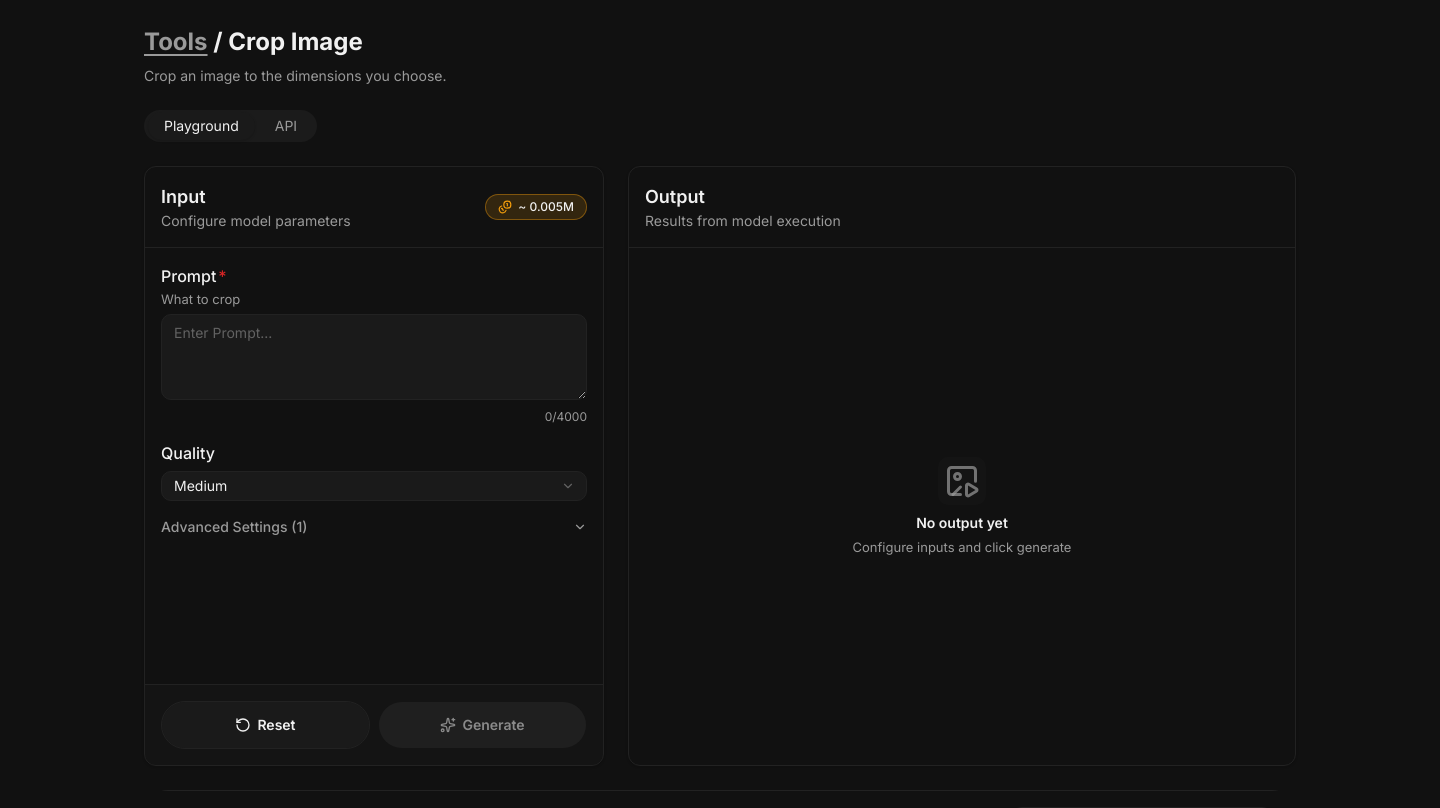
Test: ToolDetail generate › New Run clears the output and the selected run
Expected: the text "Prompt" is shown, top-left (161, 266), bottom-right (216, 286)
Type "a red apple" into the text box with placeholder "Enter Prompt...".
click(374, 357); type("a red apple")  # box top-left (161, 314), bottom-right (587, 400)
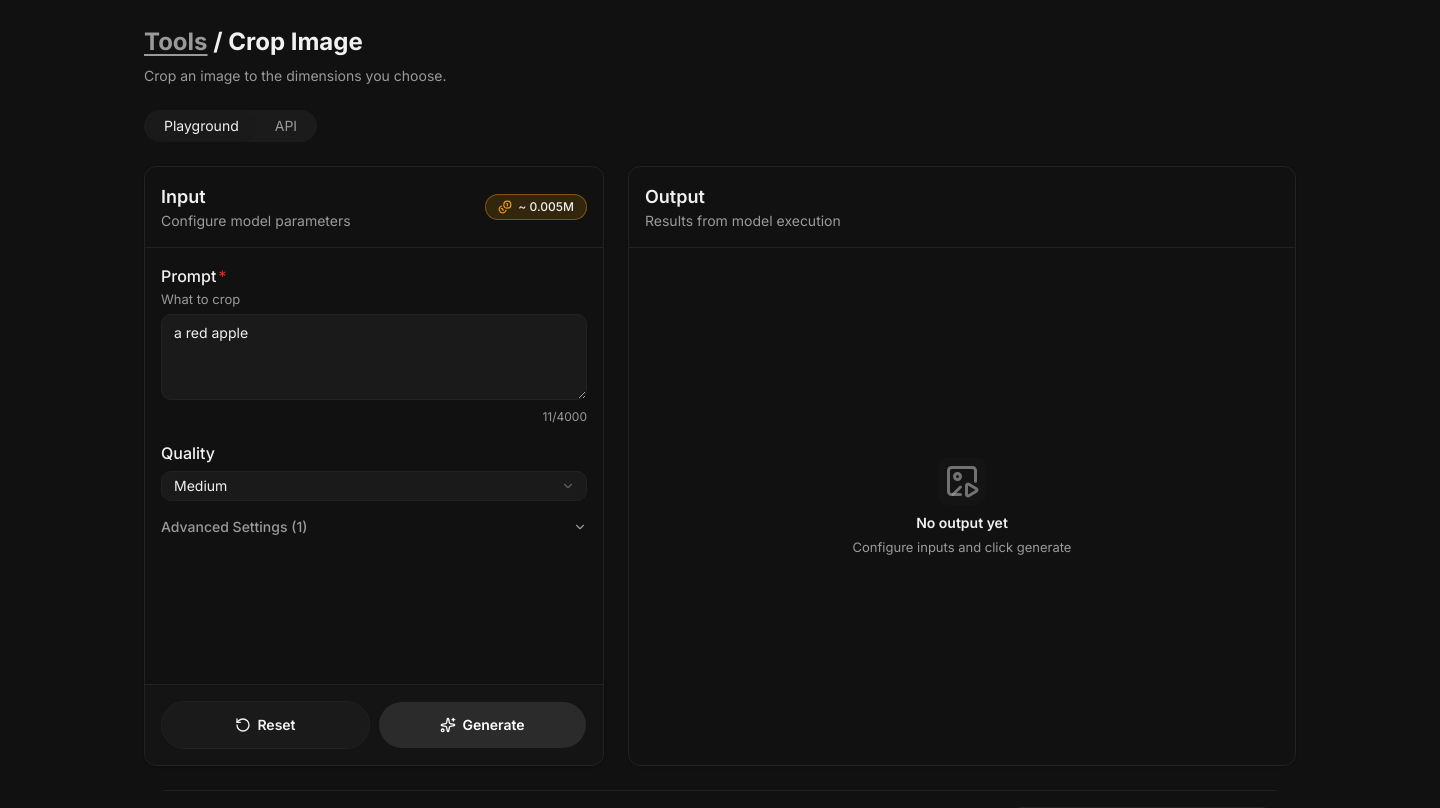
Click the button "Generate".
click(482, 725)  # box top-left (378, 701), bottom-right (587, 749)
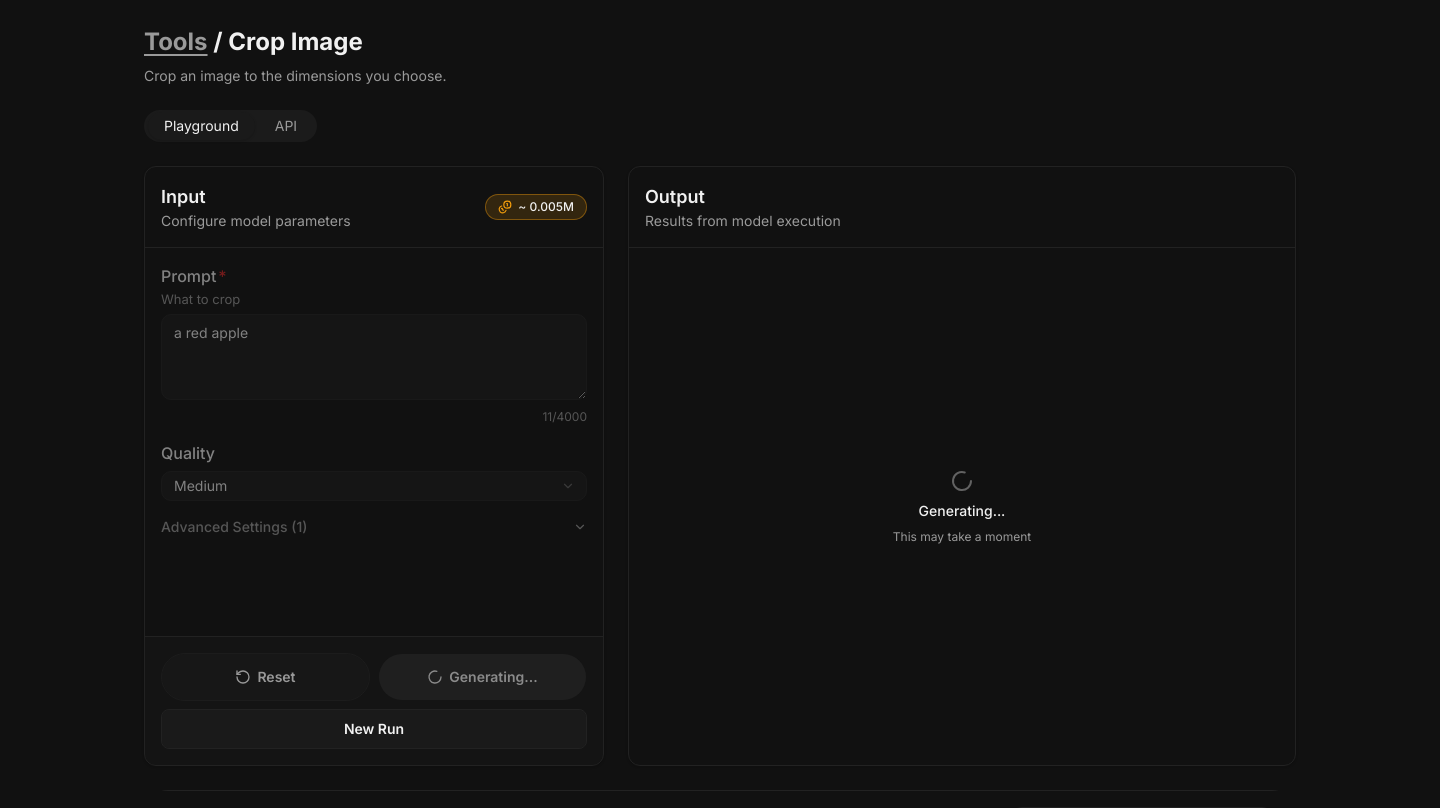
Result: the text "This may take a moment" is shown at top-left (893, 528), bottom-right (1031, 544)
Click the button "New Run".
click(374, 729)  # box top-left (161, 709), bottom-right (587, 749)
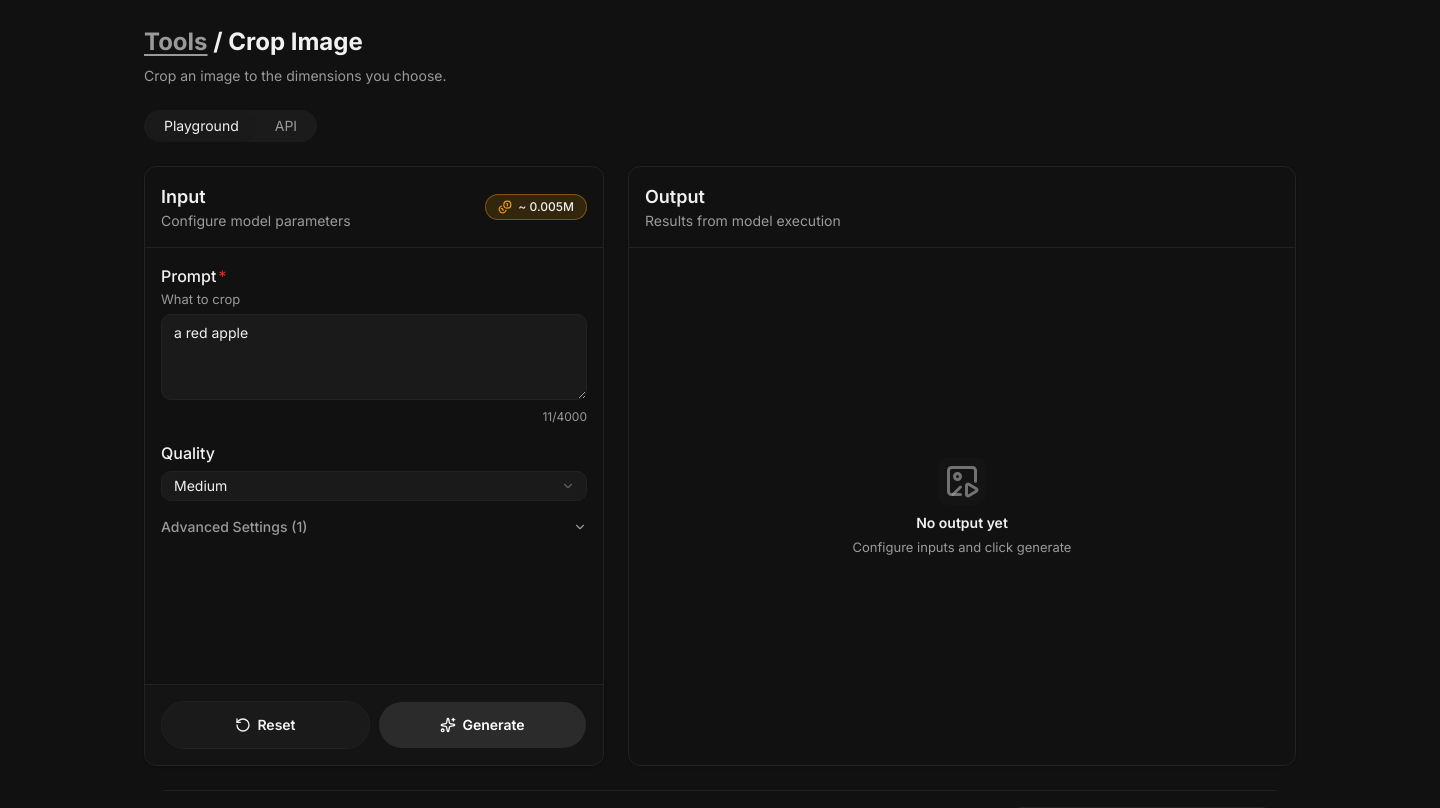
Result: the text "No output yet" is shown at top-left (916, 512), bottom-right (1008, 532)
Result: the button "New Run" is gone
